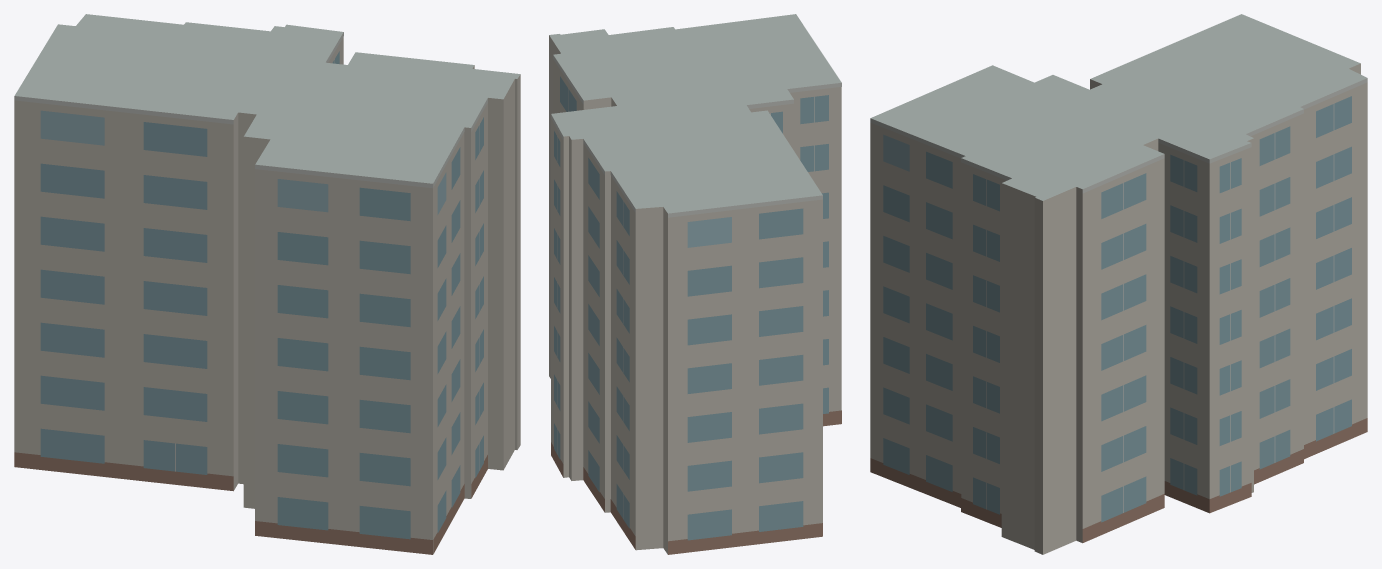
File: survey-upis-32667590.glb
The picture shows the model from 3 angles, left to right: view 1: azimuth 30°, elevation 25°; view 2: azimuth 150°, elevation 25°; view 3: azimuth 270°, elevation 25°; orthographic projection. The views are drawn at different scales.
Parts seen in each view (by area): view 1: survey-upis-32667590.tmp; view 2: survey-upis-32667590.tmp; view 3: survey-upis-32667590.tmp.
Boxes of the visible parts, box(x1,y1,x2,y2) form: survey-upis-32667590.tmp: box(14, 14, 520, 554); survey-upis-32667590.tmp: box(549, 14, 841, 554); survey-upis-32667590.tmp: box(870, 14, 1367, 554).
Bounding box in the file's own units: 22.9 × 20.2 × 25.73.
